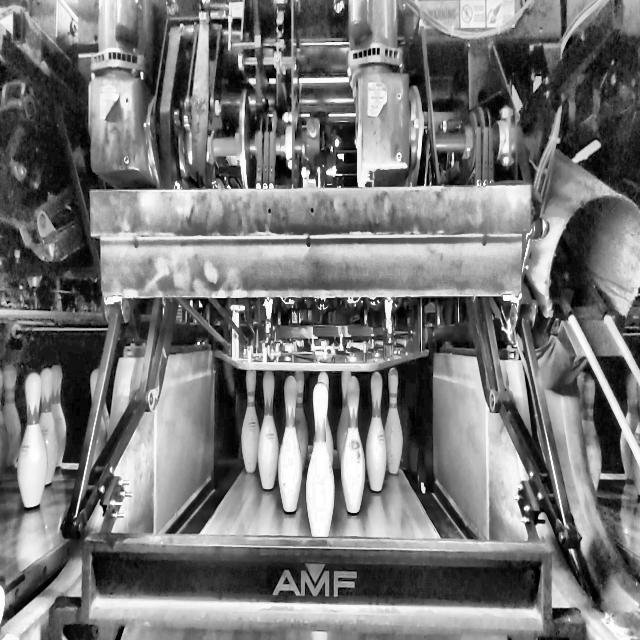bowling-pins: (278, 375, 303, 513), (306, 443, 335, 537)
